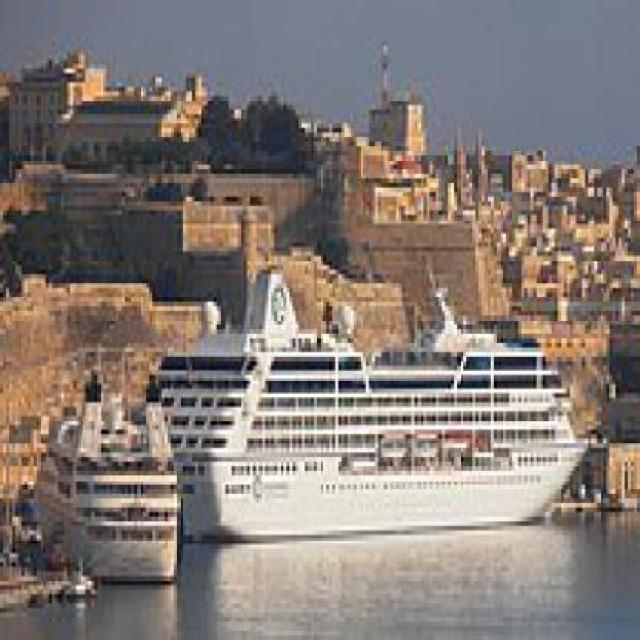cruise: (141, 262, 601, 559), (32, 362, 190, 591)
